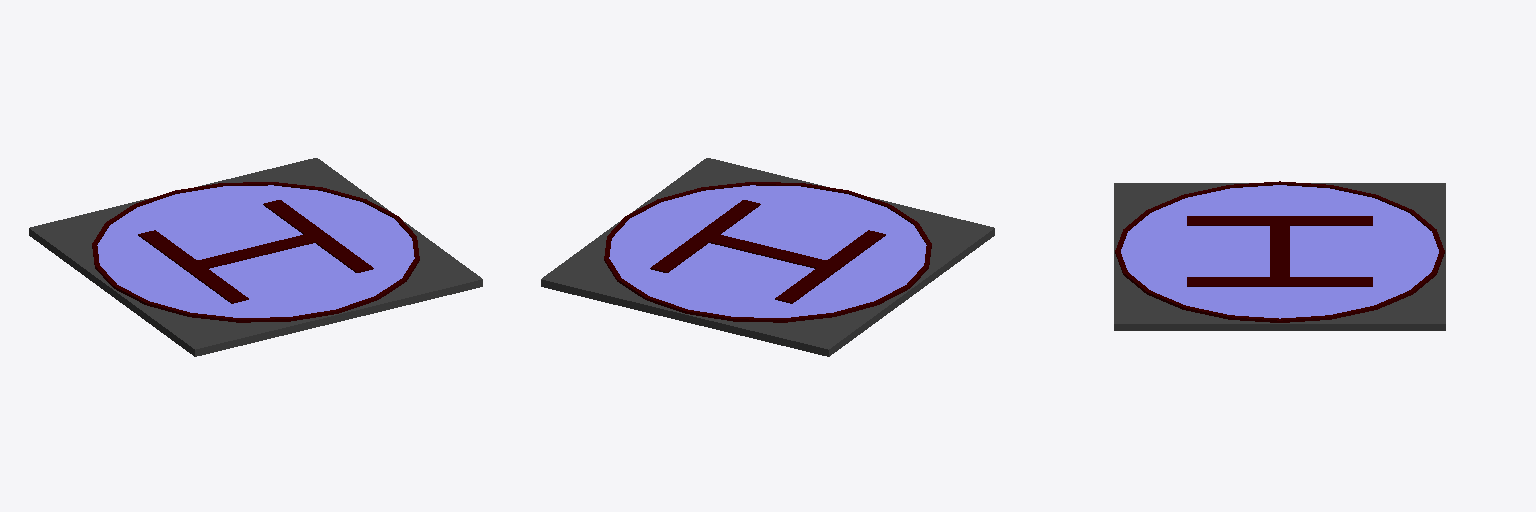
File: helipad.obj
3 views of the same model, side by side, from view 1: azimuth 30°, elevation 25°; view 2: azimuth 150°, elevation 25°; view 3: azimuth 270°, elevation 25° (orthographic).
Parts seen in each view (by area): view 1: polySurface470, polySurface469; view 2: polySurface470, polySurface469; view 3: polySurface470, polySurface469.
Part boxes in pixels (left/top/right/bottom): polySurface470: left=29, top=158, right=482, bottom=356; polySurface469: left=138, top=200, right=373, bottom=303; polySurface470: left=541, top=158, right=994, bottom=356; polySurface469: left=650, top=200, right=885, bottom=303; polySurface470: left=1114, top=181, right=1445, bottom=330; polySurface469: left=1187, top=216, right=1372, bottom=286.
Bounding box in the file's own units: 254 × 8.36 × 254.